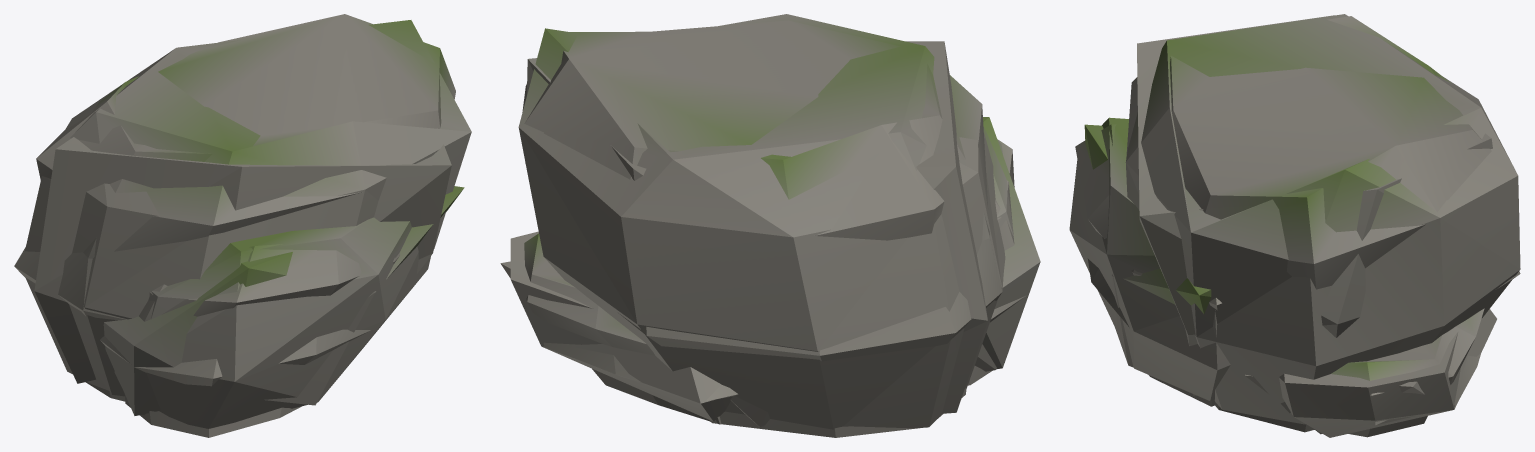
File: BoulderC.source-pack-baseline.glb
3 renders of one model, left to right at view 1: azimuth 30°, elevation 25°; view 2: azimuth 150°, elevation 25°; view 3: azimuth 270°, elevation 25°, orthographic. The views are drawn at different scales.
Parts seen in each view (by area): view 1: BoulderC_L1, BoulderC_L0, BoulderC_L2; view 2: BoulderC_L1, BoulderC_L0, BoulderC_L2; view 3: BoulderC_L1, BoulderC_L0, BoulderC_L2.
Part boxes in pixels (x1,y1,x2,y2): BoulderC_L1: (25, 20, 471, 428); BoulderC_L0: (14, 14, 455, 437); BoulderC_L2: (34, 128, 464, 415); BoulderC_L1: (510, 14, 1013, 429); BoulderC_L0: (522, 20, 1025, 437); BoulderC_L2: (500, 41, 1040, 427); BoulderC_L1: (1069, 14, 1520, 437); BoulderC_L0: (1075, 16, 1520, 437); BoulderC_L2: (1084, 15, 1492, 434).
Bounding box in the file's own units: 1.21 × 0.75 × 1.01.
